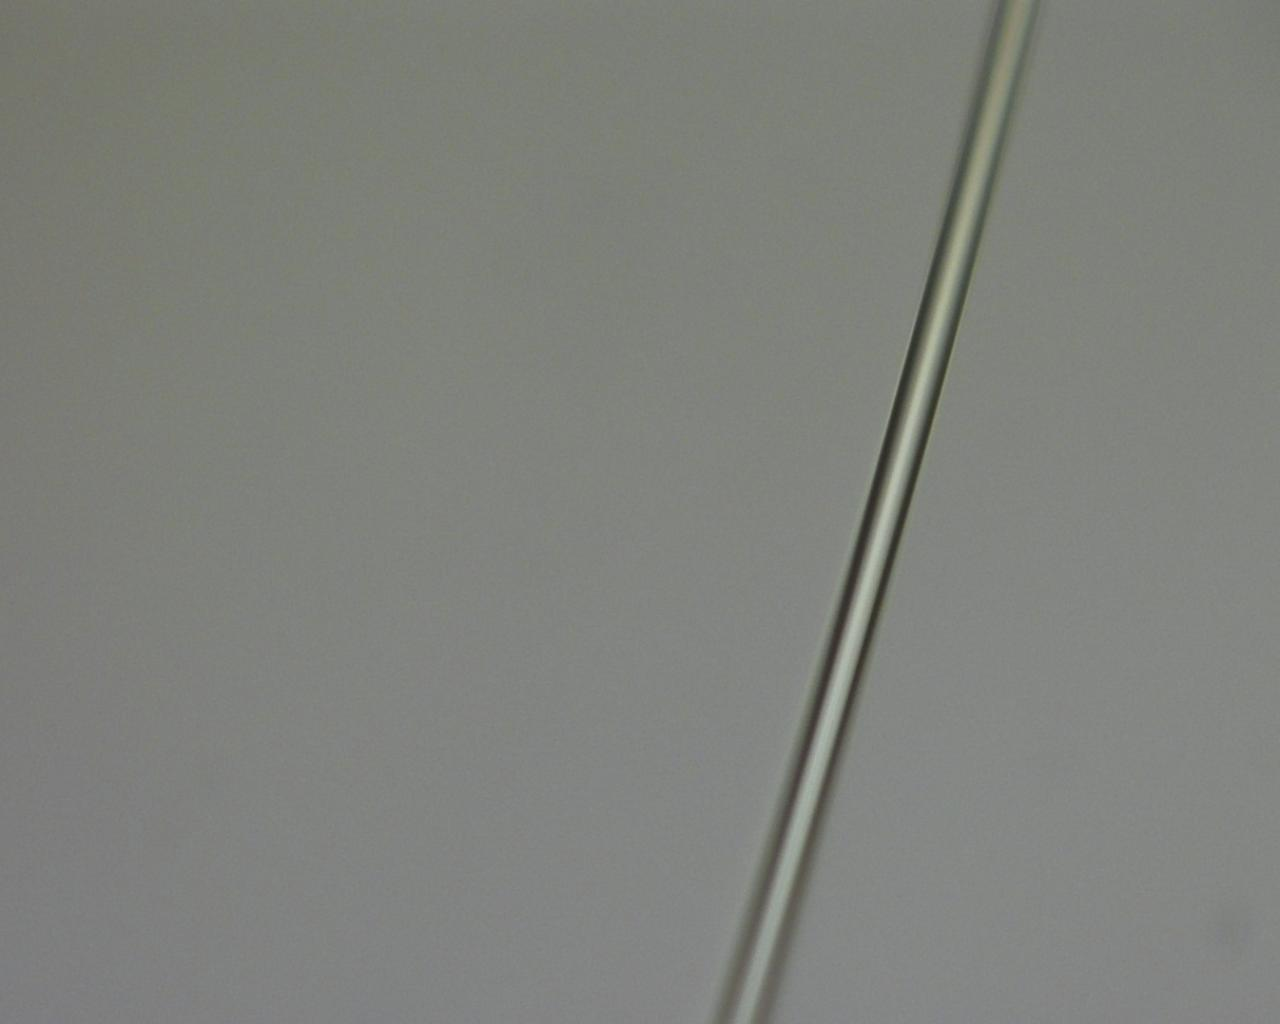fiber: (593, 0, 676, 1024)
